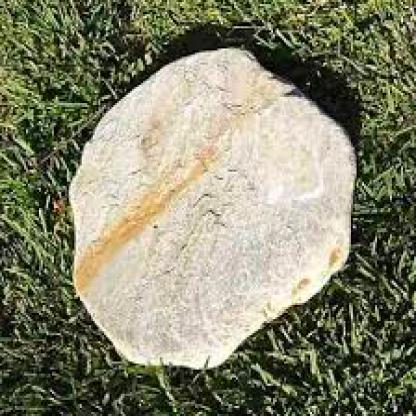Metamorphic_Quartize: (61, 31, 366, 368)
